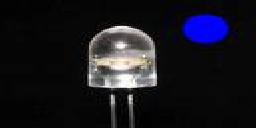LED: (85, 25, 159, 128)
